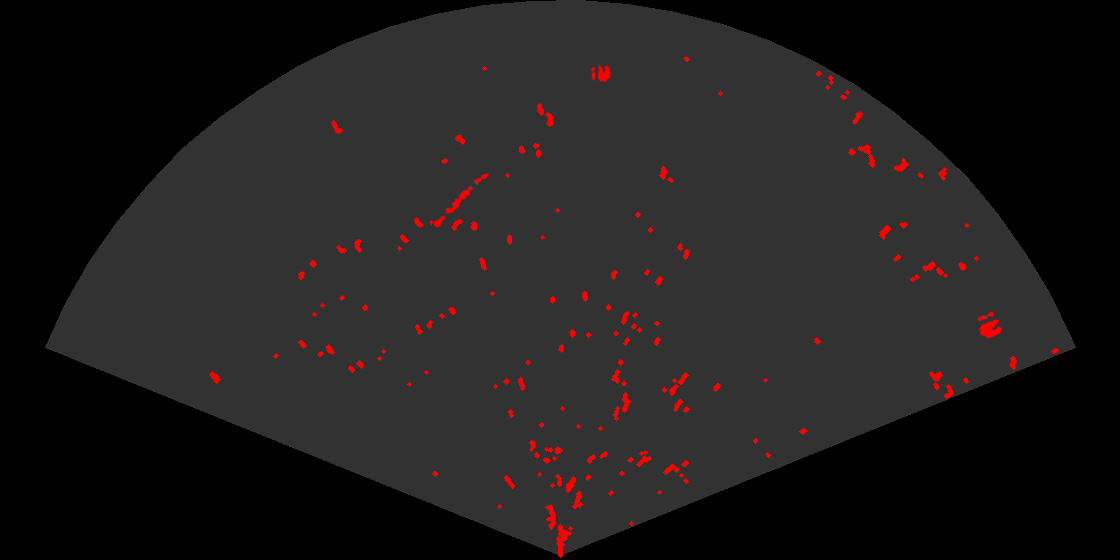ball: (976, 310, 1004, 340), (589, 63, 612, 84)
chain: (426, 171, 491, 233)
